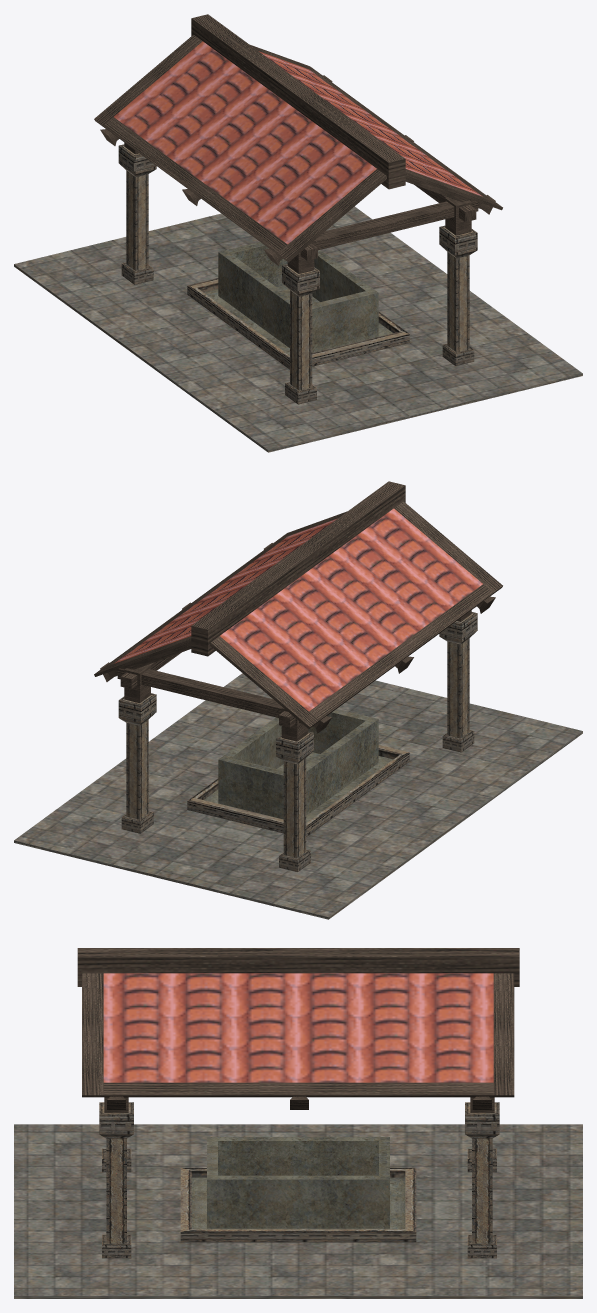
The model's file is pocojp.fbx.
3 renders of one model, top to bottom at view 1: azimuth 30°, elevation 25°; view 2: azimuth 150°, elevation 25°; view 3: azimuth 270°, elevation 25°, orthographic. The views are drawn at different scales.
Visible parts, largest first — view 1: Cube; view 2: Cube; view 3: Cube.
Boxes of the visible parts, box(x1,y1,x2,y2) form: Cube: box(14, 14, 582, 452); Cube: box(14, 481, 582, 919); Cube: box(14, 948, 582, 1298).
Size of the model in its own units: 4.32 by 3.05 by 6.05.
